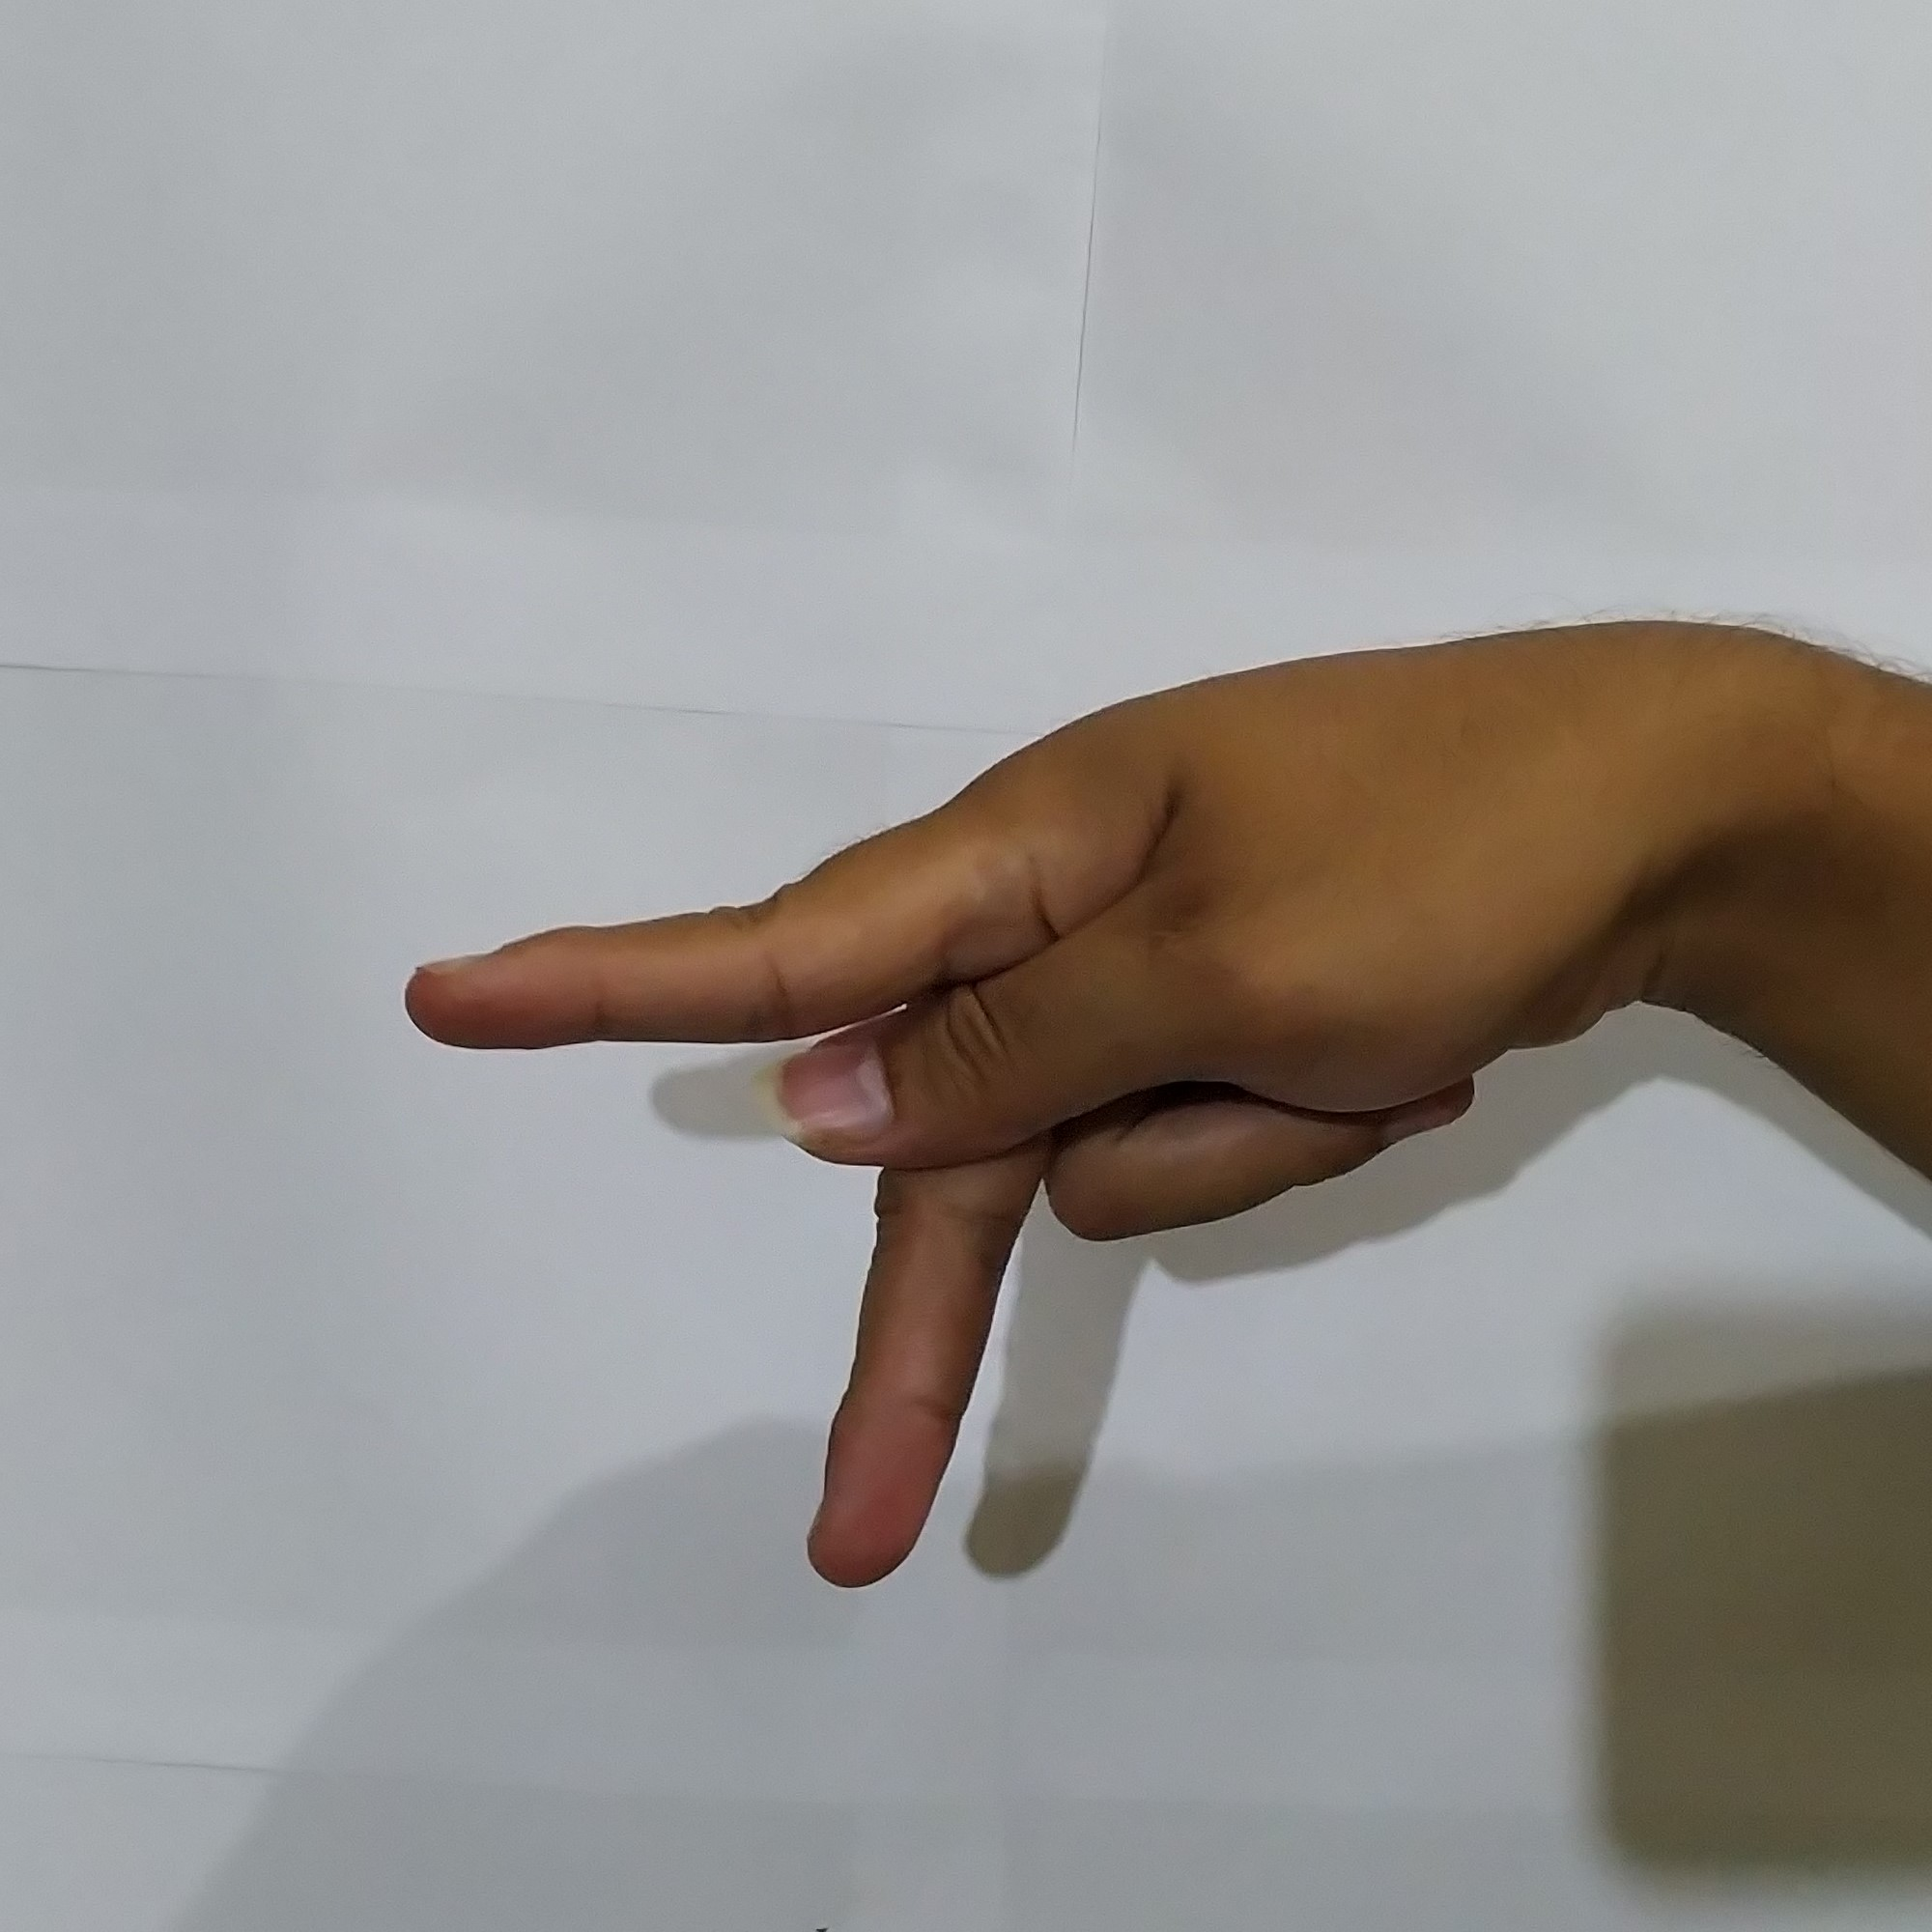P: (377, 612, 1658, 1614)
